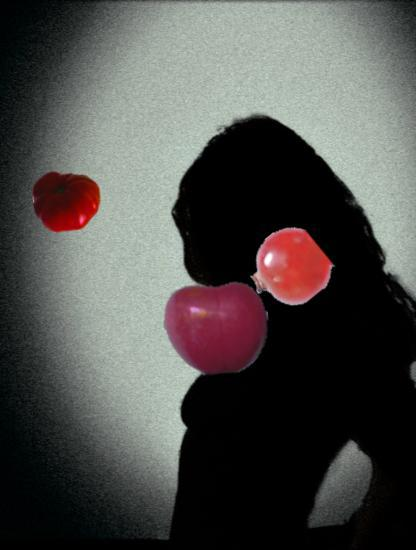Cherry: (164, 276, 269, 381)
Redcurrant: (250, 230, 329, 309)
Tomato: (33, 166, 103, 236)
